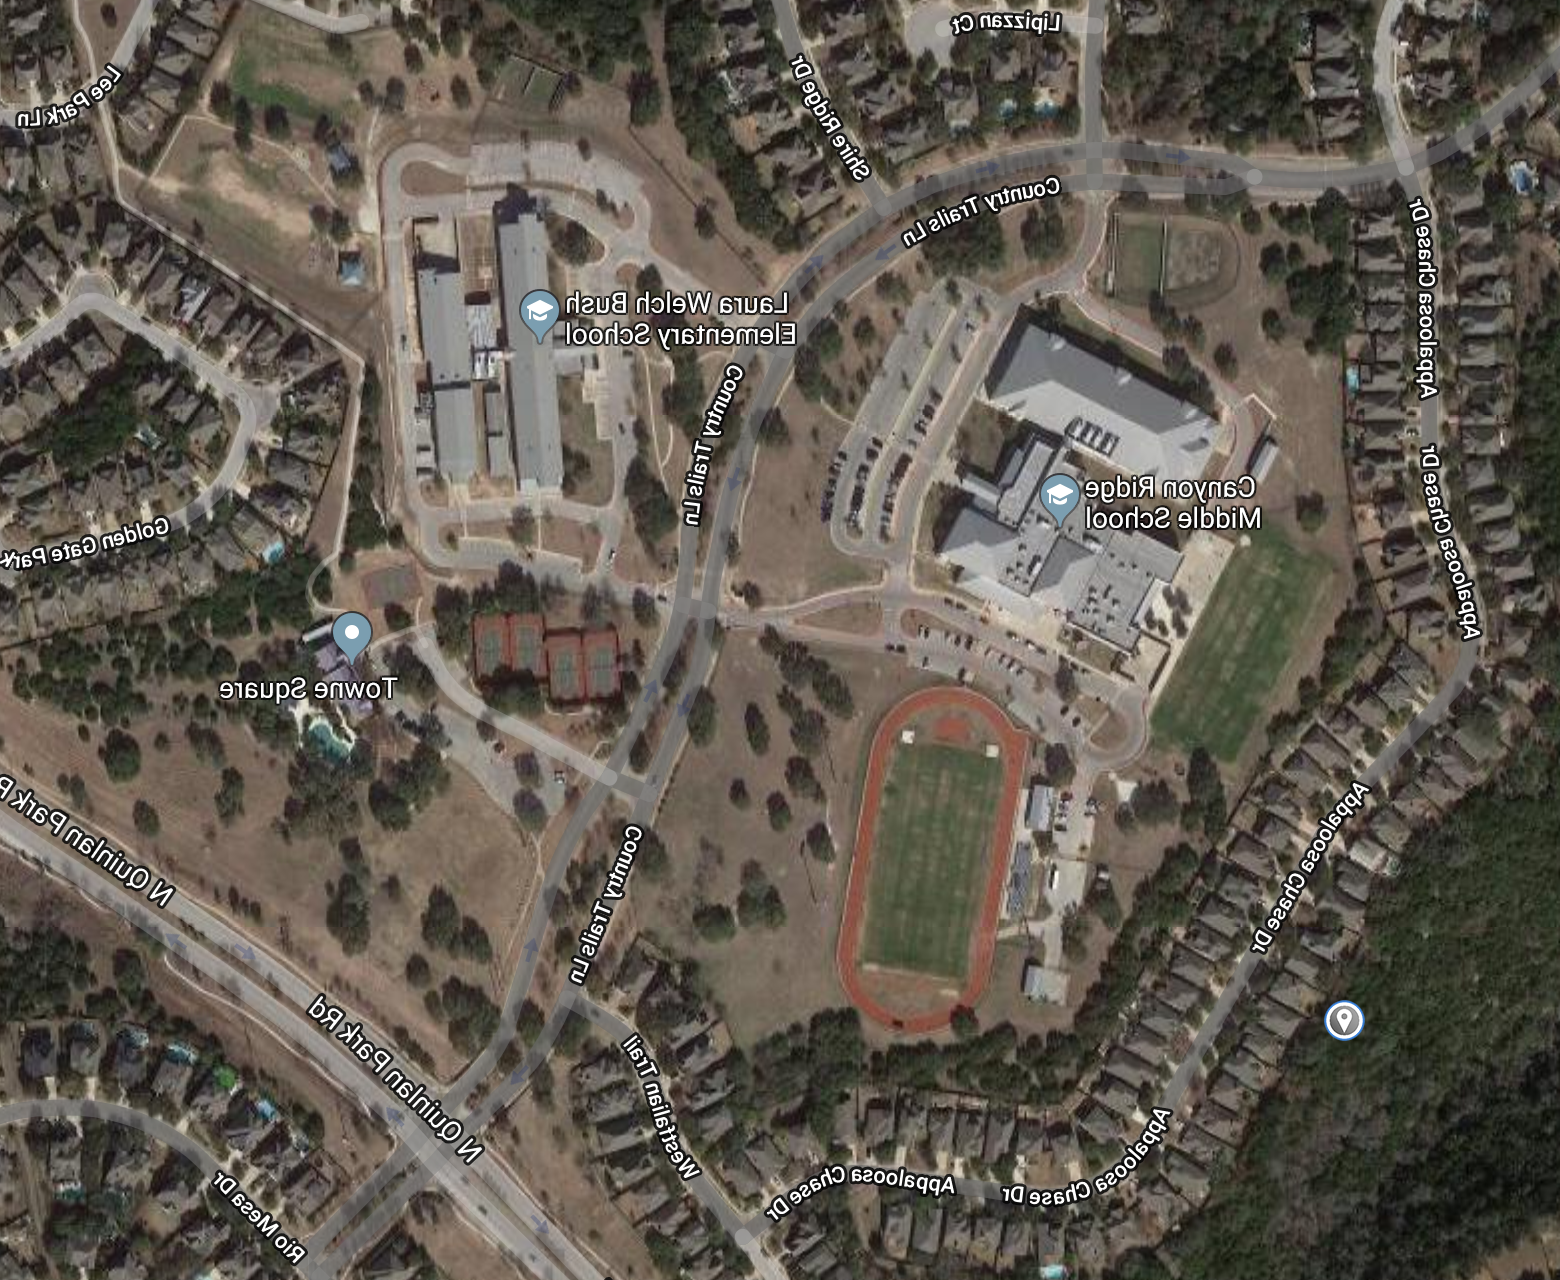football: (845, 675, 1035, 1042)
soccer: (1149, 523, 1366, 849)
